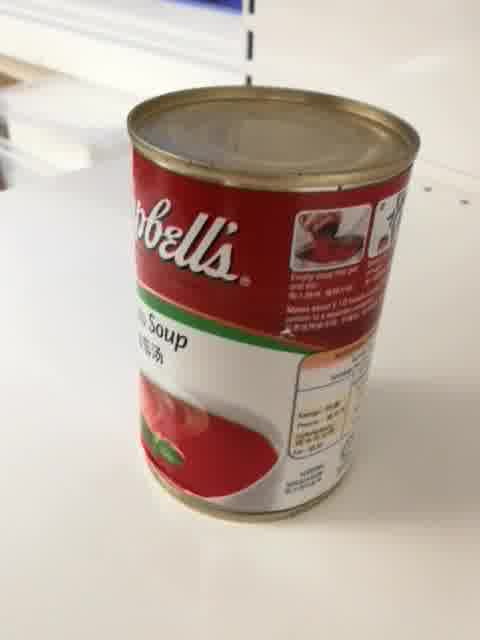tomatosoup: (126, 84, 423, 528)
